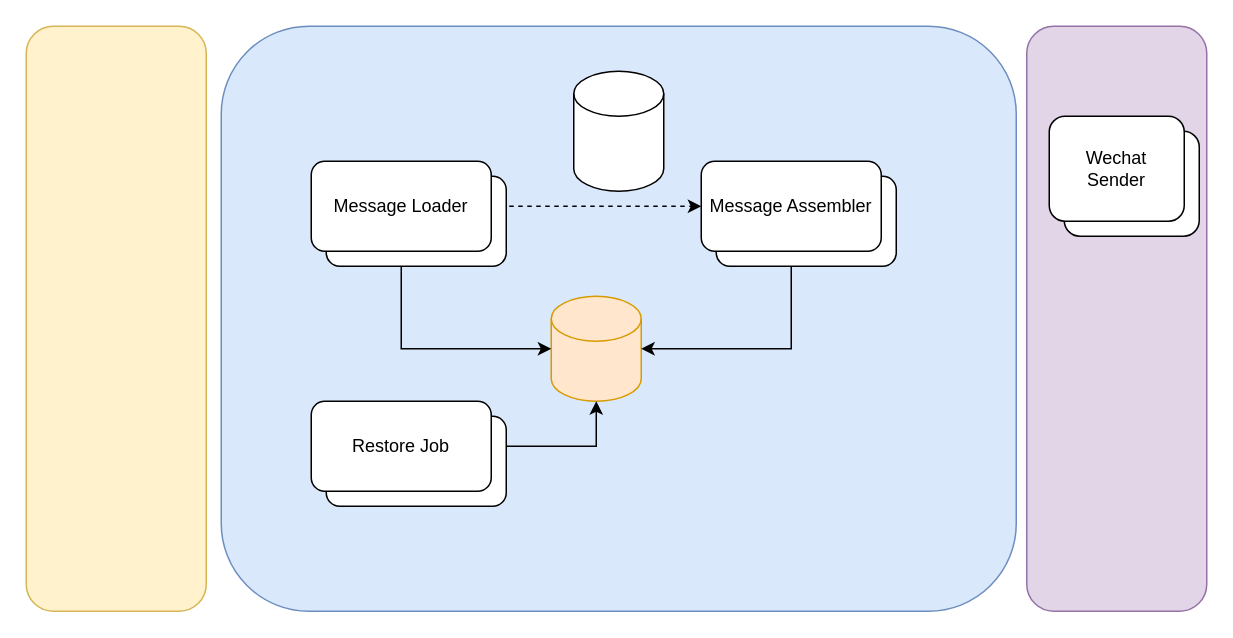
Image size: 1233x638. Some labels were removed from this diagram. The shapes that lost their labels are listed below. From the top down, each one's centre as x and y in pixels, then its label:
At (618,130): "Redis".
At (595,348): "Mongo".
